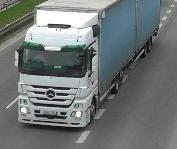Truck: (12, 0, 162, 135)
